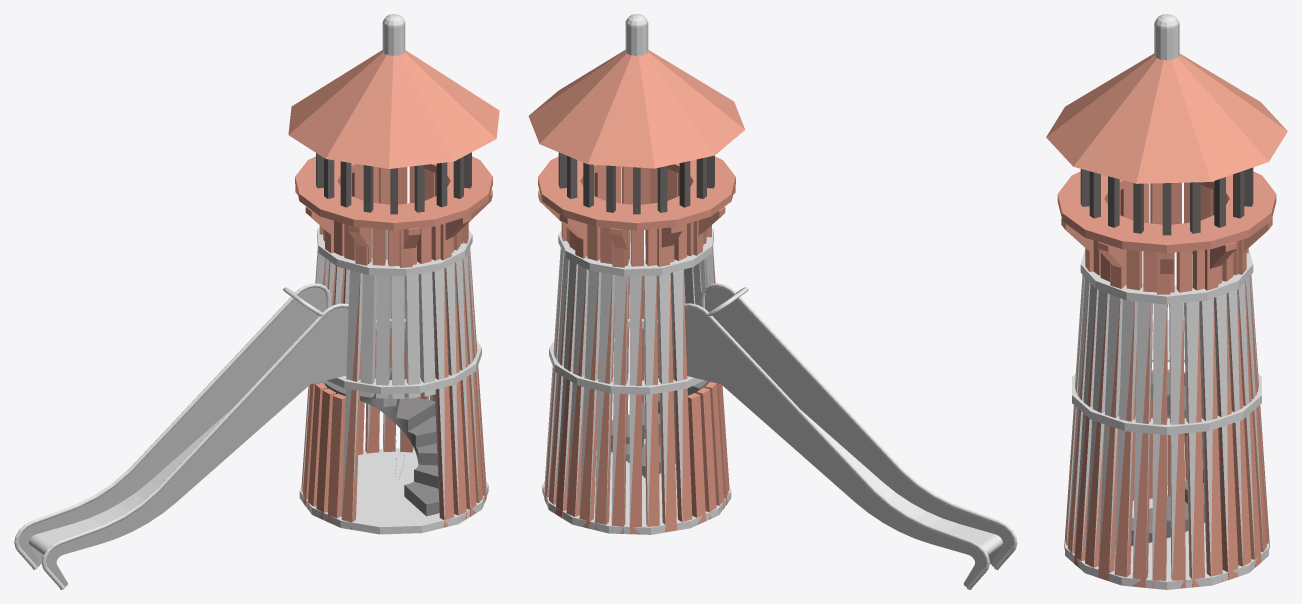
Rendered from playground-reference-colors.glb.
3 views of the same model, side by side, from view 1: azimuth 30°, elevation 25°; view 2: azimuth 150°, elevation 25°; view 3: azimuth 270°, elevation 25° (orthographic). The views are drawn at different scales.
Visible parts, largest first — view 1: part_1_Material_0-63-255_slide, part_7_Material_127-95-0_middle_cladding, part_4_Material_76-0-19_roof, part_7_Material_127-95-0_lower_slats, part_8_Material_127-127-63_gray_bands, part_8_Material_127-127-63_orange_bands, part_7_Material_127-95-0_upper_slats, part_3_Material_255-255-0_rail, part_0_Material_127-127-0_stairs, part_5_Material_255-159-127_upper_bars, part_6_Material_66-38-76_upper_supports, part_2_Material_204-204-204_slide_edge (+1 smaller); view 2: part_7_Material_127-95-0_lower_slats, part_7_Material_127-95-0_middle_cladding, part_1_Material_0-63-255_slide, part_4_Material_76-0-19_roof, part_8_Material_127-127-63_orange_bands, part_8_Material_127-127-63_gray_bands, part_7_Material_127-95-0_upper_slats, part_3_Material_255-255-0_rail, part_5_Material_255-159-127_upper_bars, part_6_Material_66-38-76_upper_supports, part_2_Material_204-204-204_slide_edge, part_4_Material_76-0-19_cap (+1 smaller); view 3: part_7_Material_127-95-0_lower_slats, part_7_Material_127-95-0_middle_cladding, part_4_Material_76-0-19_roof, part_8_Material_127-127-63_orange_bands, part_8_Material_127-127-63_gray_bands, part_7_Material_127-95-0_upper_slats, part_5_Material_255-159-127_upper_bars, part_6_Material_66-38-76_upper_supports, part_4_Material_76-0-19_cap, part_0_Material_127-127-0_stairs.
Part boxes in pixels (left/top/right/bottom): part_1_Material_0-63-255_slide: left=19, top=287, right=348, bottom=586; part_7_Material_127-95-0_middle_cladding: left=301, top=228, right=484, bottom=523; part_4_Material_76-0-19_roof: left=288, top=50, right=499, bottom=168; part_7_Material_127-95-0_lower_slats: left=301, top=249, right=486, bottom=533; part_8_Material_127-127-63_gray_bands: left=299, top=228, right=488, bottom=534; part_8_Material_127-127-63_orange_bands: left=295, top=156, right=492, bottom=230; part_7_Material_127-95-0_upper_slats: left=323, top=166, right=463, bottom=266; part_3_Material_255-255-0_rail: left=14, top=283, right=348, bottom=589; part_0_Material_127-127-0_stairs: left=321, top=354, right=439, bottom=516; part_5_Material_255-159-127_upper_bars: left=316, top=152, right=471, bottom=214; part_6_Material_66-38-76_upper_supports: left=295, top=167, right=492, bottom=267; part_2_Material_204-204-204_slide_edge: left=29, top=411, right=229, bottom=563; part_7_Material_127-95-0_lower_slats: left=544, top=230, right=729, bottom=534; part_7_Material_127-95-0_middle_cladding: left=544, top=230, right=728, bottom=528; part_1_Material_0-63-255_slide: left=684, top=287, right=1012, bottom=587; part_4_Material_76-0-19_roof: left=528, top=50, right=744, bottom=168; part_8_Material_127-127-63_orange_bands: left=538, top=156, right=735, bottom=230; part_8_Material_127-127-63_gray_bands: left=542, top=228, right=731, bottom=534; part_7_Material_127-95-0_upper_slats: left=566, top=166, right=708, bottom=266; part_3_Material_255-255-0_rail: left=684, top=283, right=1017, bottom=589; part_5_Material_255-159-127_upper_bars: left=558, top=152, right=714, bottom=214; part_6_Material_66-38-76_upper_supports: left=538, top=168, right=735, bottom=267; part_2_Material_204-204-204_slide_edge: left=801, top=410, right=1002, bottom=563; part_4_Material_76-0-19_cap: left=625, top=14, right=648, bottom=55; part_7_Material_127-95-0_lower_slats: left=1064, top=276, right=1269, bottom=588; part_7_Material_127-95-0_middle_cladding: left=1065, top=274, right=1268, bottom=587; part_4_Material_76-0-19_roof: left=1046, top=53, right=1287, bottom=183; part_8_Material_127-127-63_orange_bands: left=1057, top=171, right=1276, bottom=253; part_8_Material_127-127-63_gray_bands: left=1065, top=249, right=1268, bottom=589; part_7_Material_127-95-0_upper_slats: left=1093, top=182, right=1238, bottom=292; part_5_Material_255-159-127_upper_bars: left=1080, top=167, right=1253, bottom=235; part_6_Material_66-38-76_upper_supports: left=1061, top=218, right=1272, bottom=294; part_4_Material_76-0-19_cap: left=1154, top=14, right=1179, bottom=60; part_0_Material_127-127-0_stairs: left=1115, top=371, right=1205, bottom=545.
Bounding box in the file's own units: 4.97 × 4.97 × 2.06.
